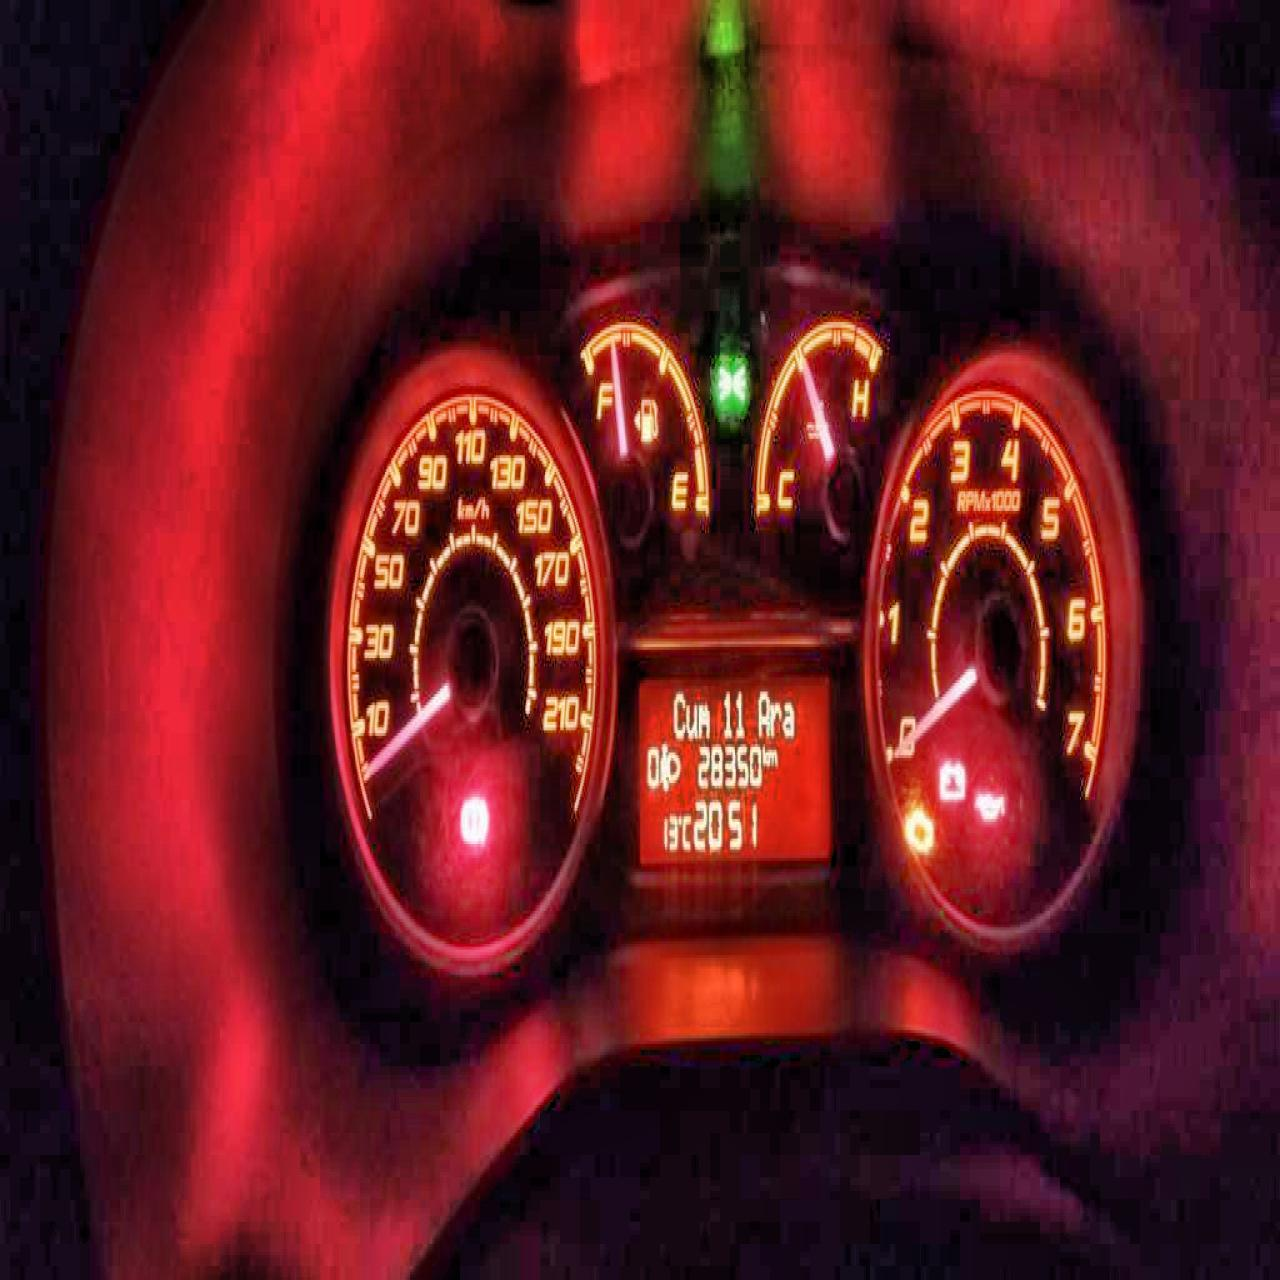0: (707, 797, 722, 850), (645, 742, 659, 789), (749, 742, 761, 789)
1: (733, 683, 745, 738), (720, 686, 733, 738), (749, 794, 757, 847), (661, 811, 667, 852)
2: (692, 795, 707, 850), (696, 741, 709, 785)
3: (723, 742, 735, 789), (666, 811, 676, 852)
5: (727, 795, 742, 850), (736, 742, 748, 789)
8: (710, 741, 722, 785)
X: (670, 686, 685, 738), (756, 686, 769, 736), (683, 700, 697, 738), (769, 697, 782, 736), (782, 696, 794, 738), (681, 809, 692, 850), (697, 700, 708, 738), (768, 744, 776, 765), (762, 742, 768, 767)
odometer: (635, 663, 832, 870)
